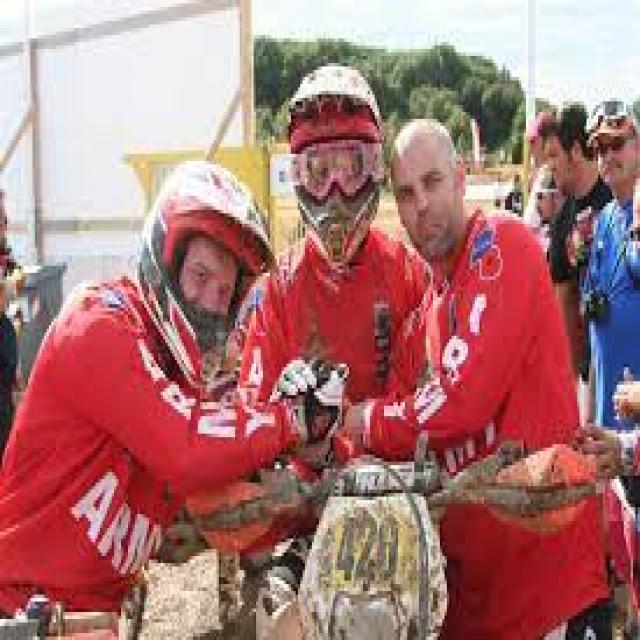Reflective-Jacket: (400, 206, 586, 497)
Safety-Helmet: (128, 136, 296, 294), (272, 52, 391, 147)
